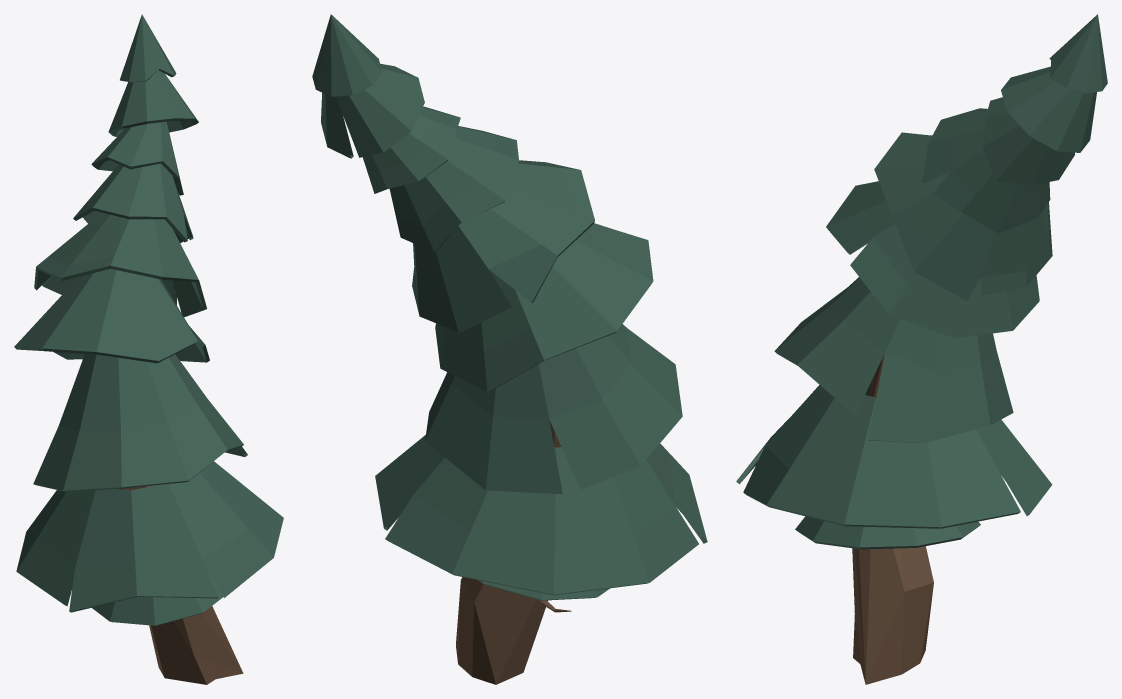
The model's file is tree4.fbx.
3 renders of one model, left to right at view 1: azimuth 30°, elevation 25°; view 2: azimuth 150°, elevation 25°; view 3: azimuth 270°, elevation 25°, orthographic. The views are drawn at different scales.
Parts seen in each view (by area): view 1: Cone.001; view 2: Cone.001; view 3: Cone.001.
Boxes of the visible parts, <box> form: Cone.001: <box>14,14,283,684</box>; Cone.001: <box>312,14,707,684</box>; Cone.001: <box>736,14,1107,684</box>.
Size of the model in its own units: 2.28 by 5.68 by 2.85.
